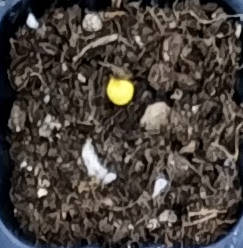pepper seed: (39, 21, 174, 127)
